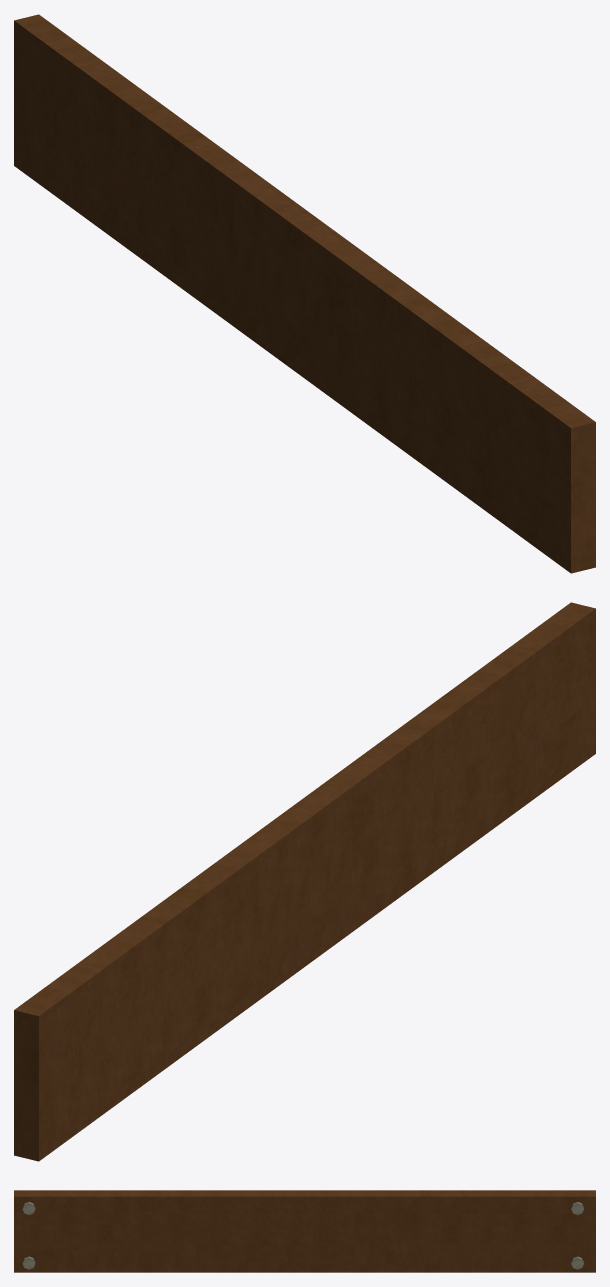
File: wood_fixed_panel.fbx
The picture shows the model from 3 angles, top to bottom: view 1: azimuth 30°, elevation 25°; view 2: azimuth 150°, elevation 25°; view 3: azimuth 270°, elevation 25°; orthographic projection. The views are drawn at different scales.
Visible parts, largest first — view 1: plank_full; view 2: plank_full; view 3: plank_full, pCylinder8.
Part boxes in pixels (bbox=[...]): plank_full: bbox=[14, 14, 595, 573]; plank_full: bbox=[14, 602, 595, 1161]; plank_full: bbox=[14, 1190, 595, 1272]; pCylinder8: bbox=[22, 1202, 583, 1269].
Size of the model in its own units: 4.8 by 20.53 by 143.
1 material, 1 textured.
